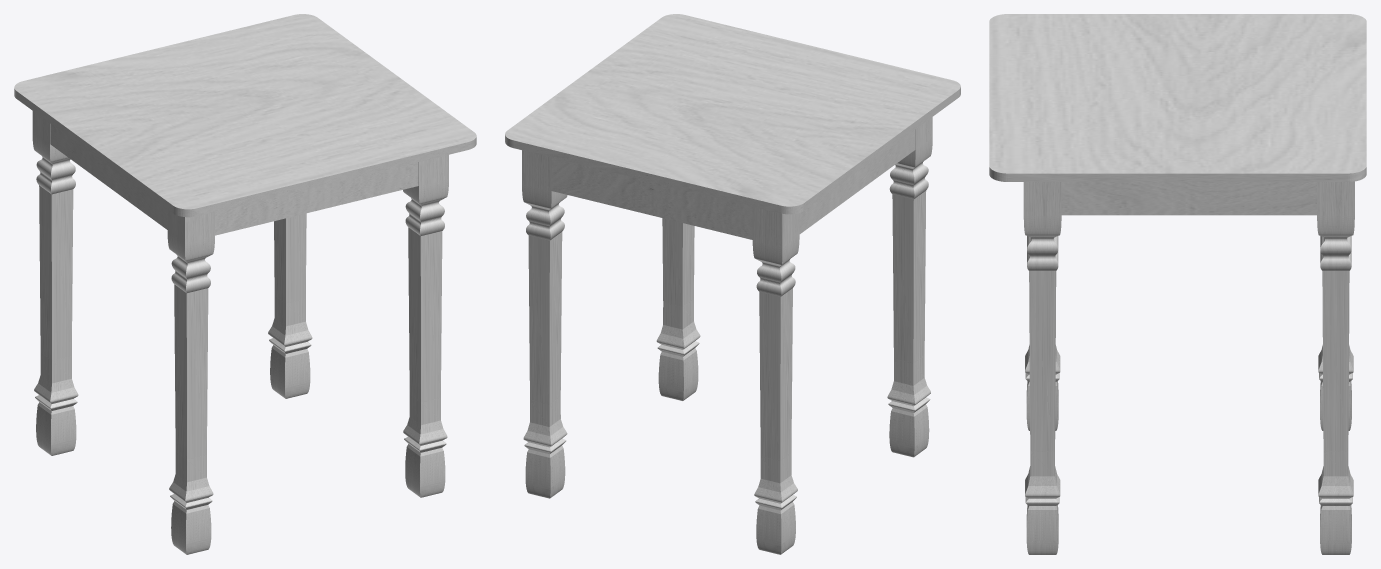
File: chair.glb
3 renders of one model, left to right at view 1: azimuth 30°, elevation 25°; view 2: azimuth 150°, elevation 25°; view 3: azimuth 270°, elevation 25°, orthographic. The views are drawn at different scales.
Visible parts, largest first — view 1: chair-top, left-front, right-front, left-back, chair-bottom, right-back; view 2: chair-top, left-back, right-back, left-front, chair-bottom, right-front; view 3: chair-top, right-front, right-back, chair-bottom, left-front, left-back.
Boxes of the visible parts, x1,y1,x2,y2 form: chair-top: [14, 14, 476, 217]; left-front: [167, 210, 214, 554]; right-front: [403, 155, 448, 497]; left-back: [32, 111, 78, 455]; chair-bottom: [50, 124, 418, 235]; right-back: [268, 213, 312, 398]; chair-top: [505, 14, 960, 214]; left-back: [752, 206, 799, 554]; right-back: [522, 150, 567, 498]; left-front: [887, 117, 932, 457]; chair-bottom: [551, 130, 915, 239]; right-front: [656, 218, 700, 400]; chair-top: [989, 14, 1366, 181]; right-front: [1023, 182, 1061, 554]; right-back: [1317, 181, 1354, 554]; chair-bottom: [1061, 182, 1316, 215]; left-front: [1025, 345, 1060, 430]; left-back: [1318, 345, 1353, 430].
Bounding box in the file's own units: 0.8 × 0.92 × 0.8.
1 material, 1 textured.
